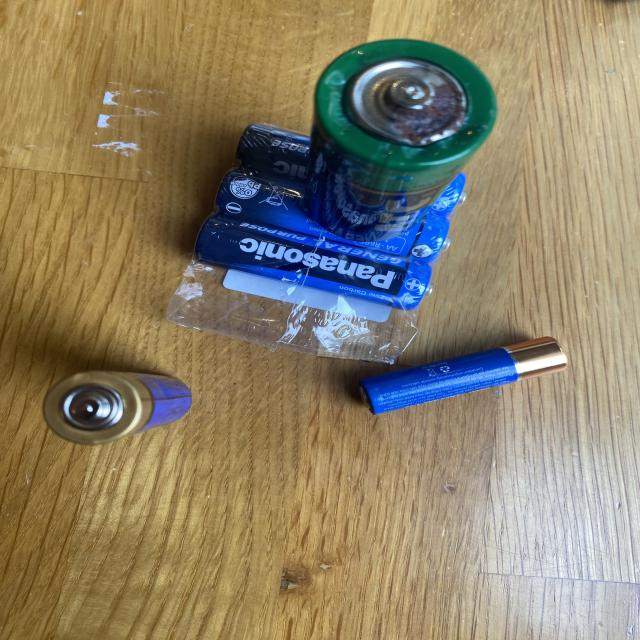AA: (32, 341, 205, 470)
AAA: (358, 336, 568, 416)
